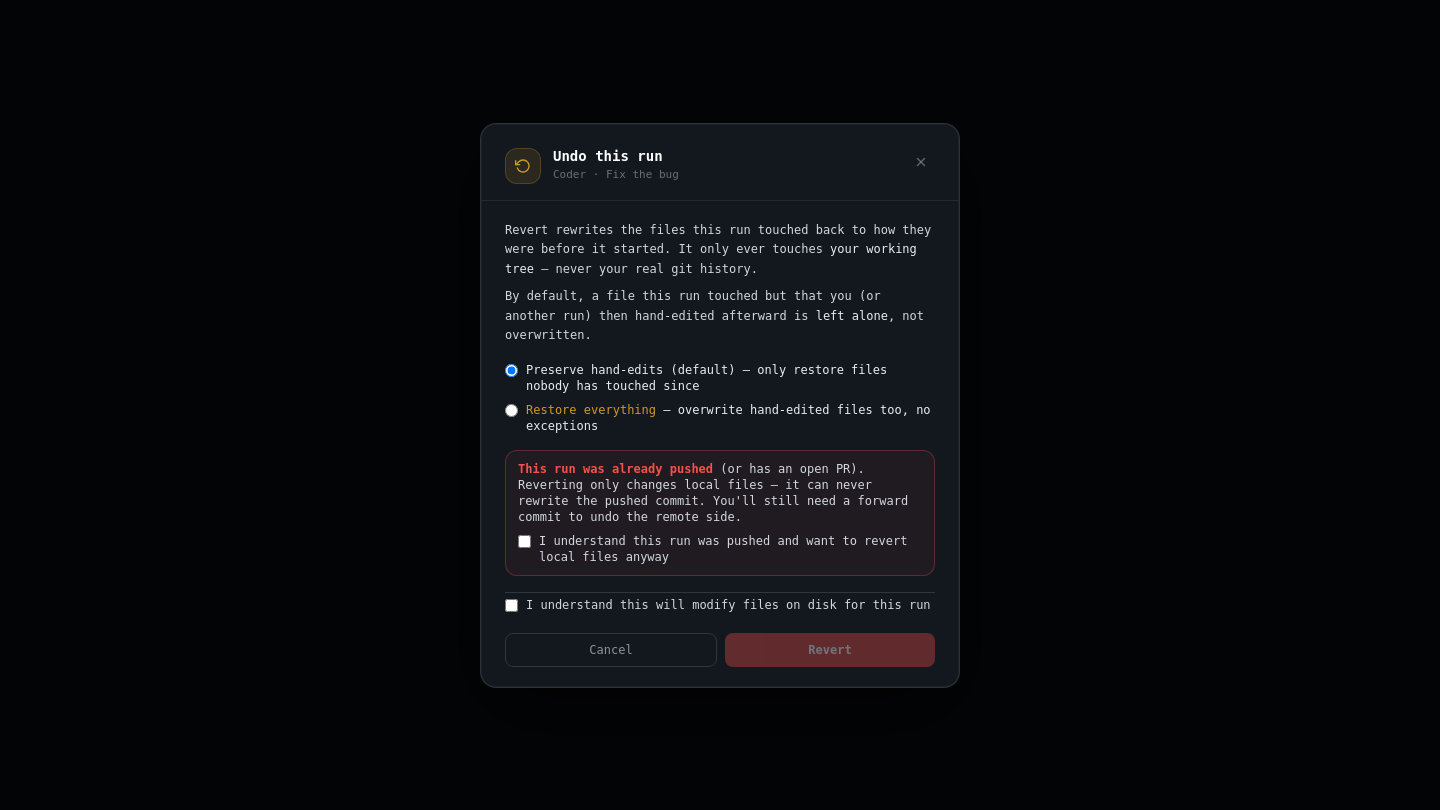
Test: CheckpointRevertDialog › requires the extra pushed checkbox before Revert is enabled on a pushed run
Click the checkbox with test id "checkpoint-revert-confirm".
click(512, 605)  # box left=505, top=598, right=518, bottom=612
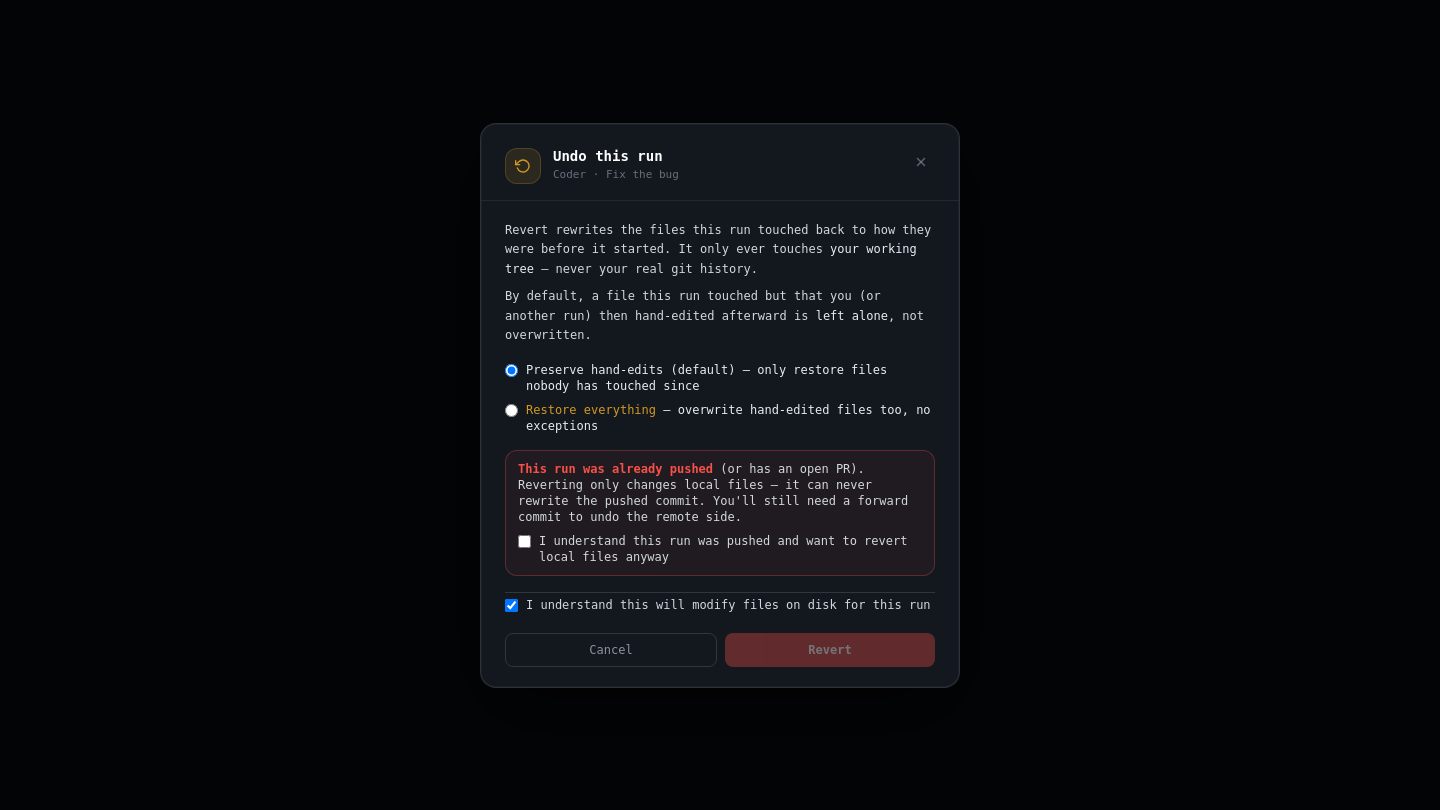
Expected: the button with test id "checkpoint-revert-confirm-btn" is disabled, left=725, top=632, right=935, bottom=666
Click the checkbox with test id "checkpoint-revert-allow-pushed".
click(524, 541)  # box left=518, top=534, right=531, bottom=548
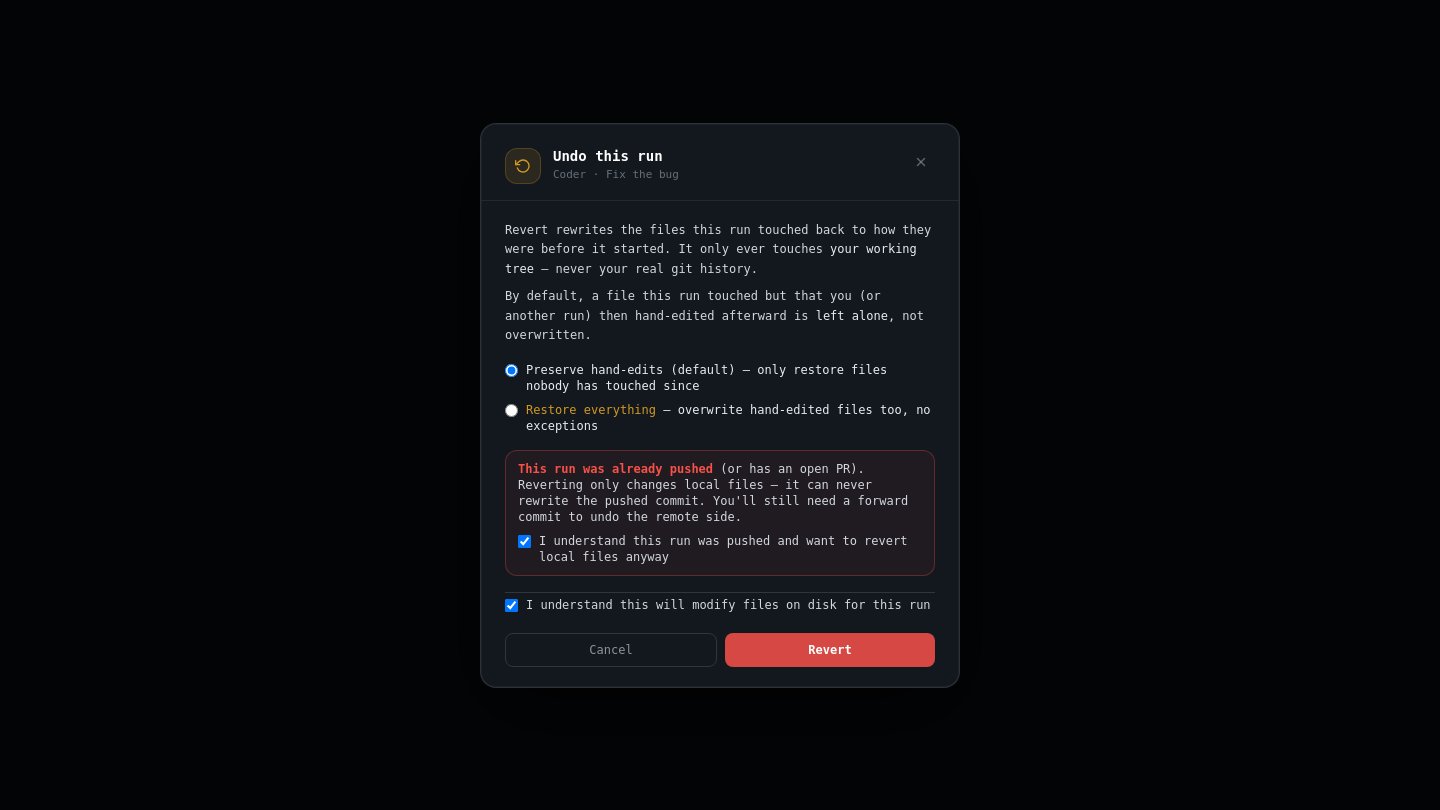
Expected: the button with test id "checkpoint-revert-confirm-btn" is enabled, left=725, top=632, right=935, bottom=666
